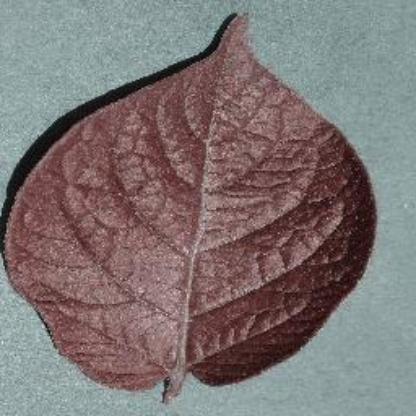Healthy-plant: (10, 20, 376, 394)
